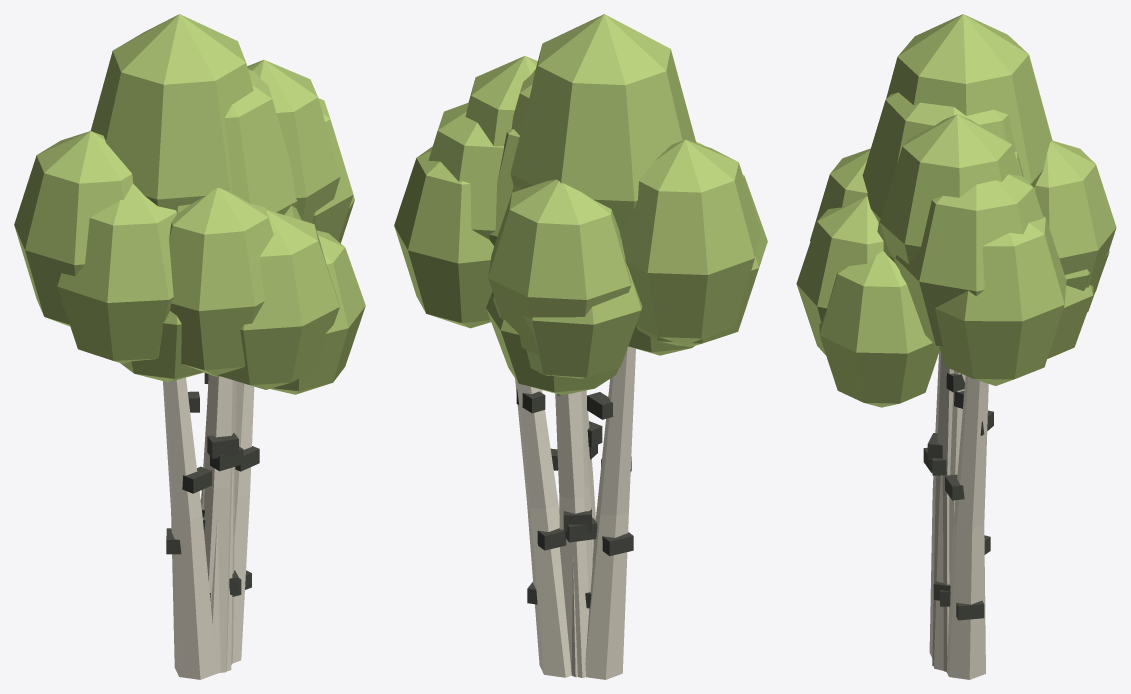
Rendered from tree_birch.glb.
The picture shows the model from 3 angles, left to right: view 1: azimuth 30°, elevation 25°; view 2: azimuth 150°, elevation 25°; view 3: azimuth 270°, elevation 25°; orthographic projection. The views are drawn at different scales.
Visible parts, largest first — view 1: Birch_airy_lobe_canopy.010, Birch_airy_lobe_canopy.001, Birch_airy_lobe_canopy.013, Birch_airy_lobe_canopy.011, Birch_airy_lobe_canopy.003, Birch_pale_stem.001, Birch_airy_lobe_canopy, Birch_airy_lobe_canopy.012, Birch_pale_stem.003, Birch_airy_lobe_canopy.008, Birch_pale_stem.002, Birch_airy_lobe_canopy.006 (+4 smaller); view 2: Birch_airy_lobe_canopy.010, Birch_airy_lobe_canopy.011, Birch_airy_lobe_canopy.014, Birch_airy_lobe_canopy.007, Birch_pale_stem.001, Birch_pale_stem.002, Birch_airy_lobe_canopy.004, Birch_pale_stem, Birch_airy_lobe_canopy.002, Birch_airy_lobe_canopy.012, Birch_airy_lobe_canopy.009, Birch_pale_stem.003 (+6 smaller); view 3: Birch_airy_lobe_canopy.007, Birch_airy_lobe_canopy.010, Birch_airy_lobe_canopy.008, Birch_airy_lobe_canopy.002, Birch_airy_lobe_canopy.012, Birch_pale_stem.002, Birch_airy_lobe_canopy.014, Birch_airy_lobe_canopy.003, Birch_airy_lobe_canopy, Birch_pale_stem.003, Birch_pale_stem, Birch_airy_lobe_canopy.013 (+3 smaller).
Part boxes in pixels (<box>): Birch_airy_lobe_canopy.010: <box>90,14,253,209</box>; Birch_airy_lobe_canopy.001: <box>56,183,176,363</box>; Birch_airy_lobe_canopy.013: <box>169,188,273,377</box>; Birch_airy_lobe_canopy.011: <box>14,131,132,326</box>; Birch_airy_lobe_canopy.003: <box>218,209,339,389</box>; Birch_pale_stem.001: <box>163,377,217,679</box>; Birch_airy_lobe_canopy: <box>175,69,297,214</box>; Birch_airy_lobe_canopy.012: <box>247,60,340,223</box>; Birch_pale_stem.003: <box>201,374,236,672</box>; Birch_airy_lobe_canopy.008: <box>270,230,365,394</box>; Birch_pale_stem.002: <box>232,381,254,663</box>; Birch_airy_lobe_canopy.006: <box>120,311,203,382</box>; Birch_airy_lobe_canopy.010: <box>510,14,696,229</box>; Birch_airy_lobe_canopy.011: <box>619,139,760,345</box>; Birch_airy_lobe_canopy.014: <box>488,179,631,355</box>; Birch_airy_lobe_canopy.007: <box>394,146,493,328</box>; Birch_pale_stem.001: <box>585,346,635,679</box>; Birch_pale_stem.002: <box>515,378,571,677</box>; Birch_airy_lobe_canopy.004: <box>493,239,642,378</box>; Birch_pale_stem: <box>555,391,593,677</box>; Birch_airy_lobe_canopy.002: <box>428,102,504,239</box>; Birch_airy_lobe_canopy.012: <box>465,56,537,146</box>; Birch_airy_lobe_canopy.009: <box>486,291,618,395</box>; Birch_pale_stem.003: <box>571,390,595,677</box>; Birch_airy_lobe_canopy.007: <box>935,216,1066,385</box>; Birch_airy_lobe_canopy.010: <box>886,14,1052,187</box>; Birch_airy_lobe_canopy.008: <box>819,251,939,407</box>; Birch_airy_lobe_canopy.002: <box>895,174,1043,346</box>; Birch_airy_lobe_canopy.012: <box>880,114,1021,269</box>; Birch_pale_stem.002: <box>946,376,988,679</box>; Birch_airy_lobe_canopy.014: <box>1035,141,1116,293</box>; Birch_airy_lobe_canopy.003: <box>796,196,883,355</box>; Birch_airy_lobe_canopy: <box>862,92,1035,222</box>; Birch_pale_stem.003: <box>932,353,953,671</box>; Birch_pale_stem: <box>934,370,965,670</box>; Birch_airy_lobe_canopy.013: <box>810,148,870,241</box>.
Bounding box in the file's own units: 1.83 × 3.48 × 1.58.
